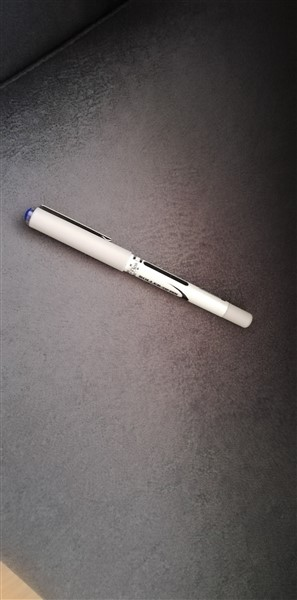pilot kalem: (20, 198, 260, 333)
